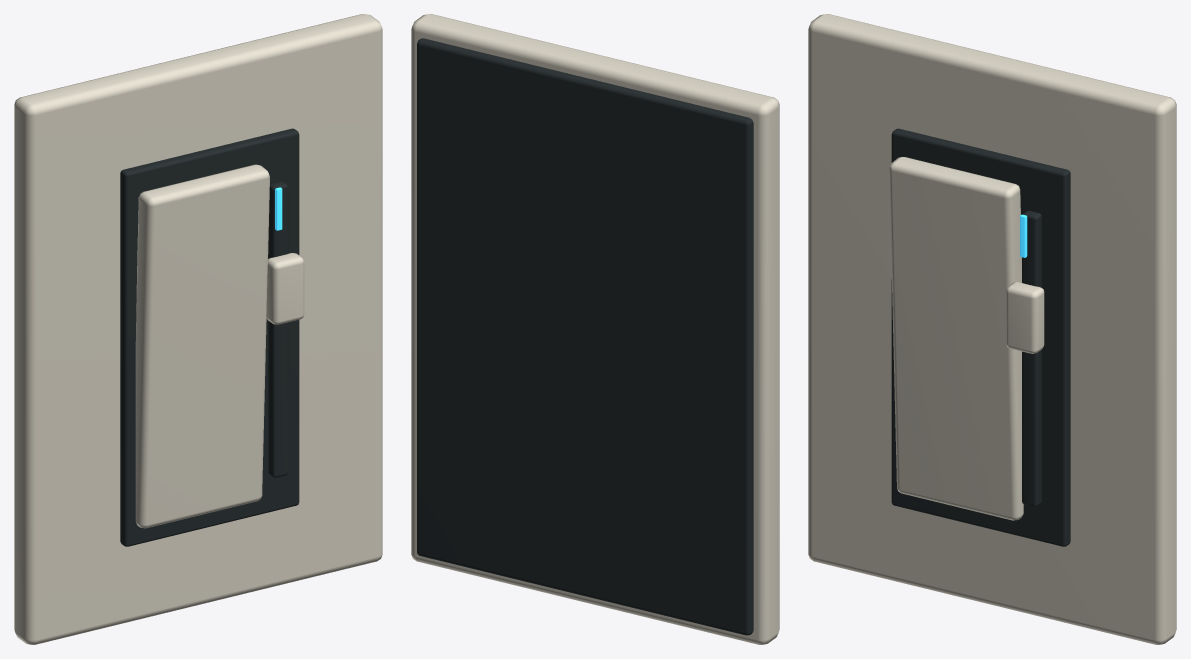
Rendered from wall-switch-dimmer-plate.glb.
3 renders of one model, left to right at view 1: azimuth 30°, elevation 25°; view 2: azimuth 150°, elevation 25°; view 3: azimuth 330°, elevation 25°, orthographic.
Parts seen in each view (by area): view 1: catalog_surface_RealismUV, catalog_surface_UVMap; view 2: catalog_surface_UVMap, catalog_surface_RealismUV; view 3: catalog_surface_RealismUV, catalog_surface_UVMap.
Boxes of the visible parts, x1=… form: catalog_surface_RealismUV: x1=14, y1=14, x2=382, y2=644; catalog_surface_UVMap: x1=120, y1=128, x2=299, y2=546; catalog_surface_UVMap: x1=417, y1=38, x2=753, y2=635; catalog_surface_RealismUV: x1=411, y1=14, x2=779, y2=644; catalog_surface_RealismUV: x1=808, y1=14, x2=1176, y2=644; catalog_surface_UVMap: x1=891, y1=128, x2=1070, y2=546.
Bounding box in the file's own units: 0.09 × 0.13 × 0.02.
